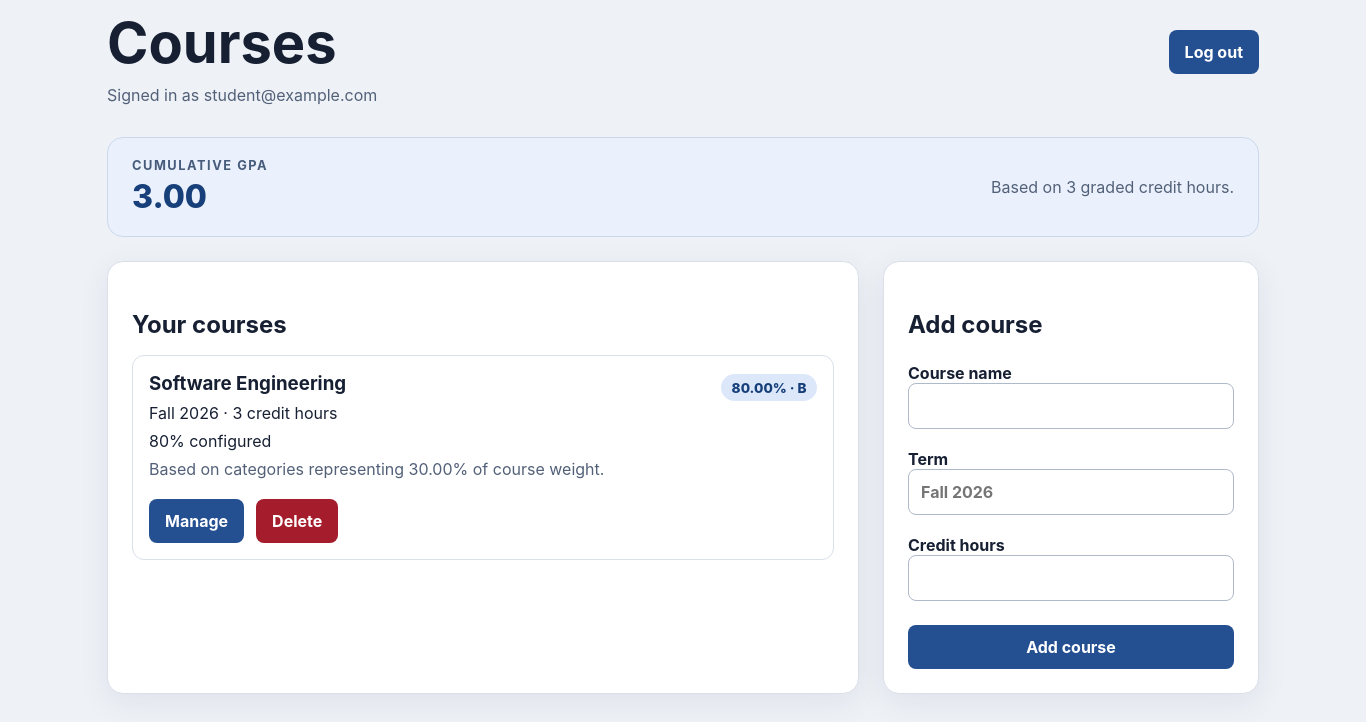
Test: What-If calculator › changing Hypothetical points earned clears an existing projection
This screenshot has width=1366, height=722.
Step 1. Click the button "Manage" → click(197, 521), box [149,499,244,543]
(page scrolled)
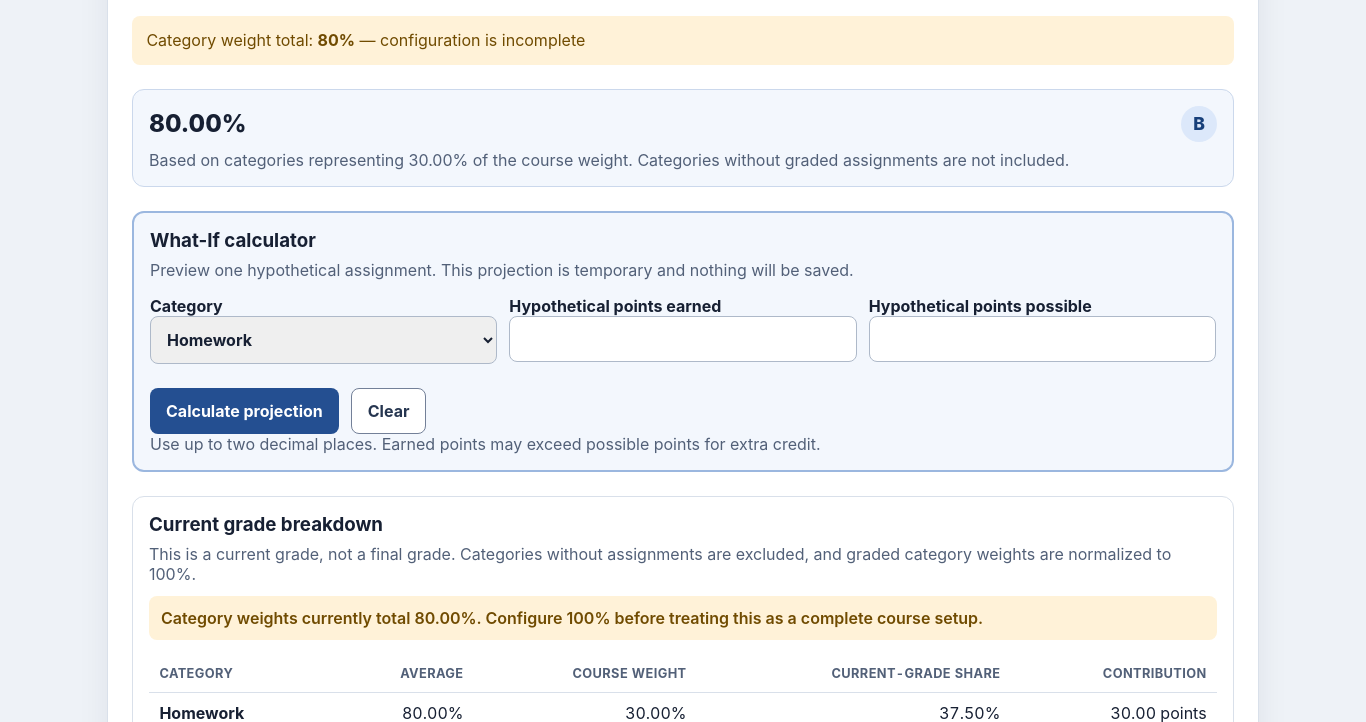
Now the heading "What-If calculator" is shown, box [150,229,316,252]
Step 2. Type "92" into the number field labelled "Hypothetical points earned" → (683, 339), box [509,316,857,362]
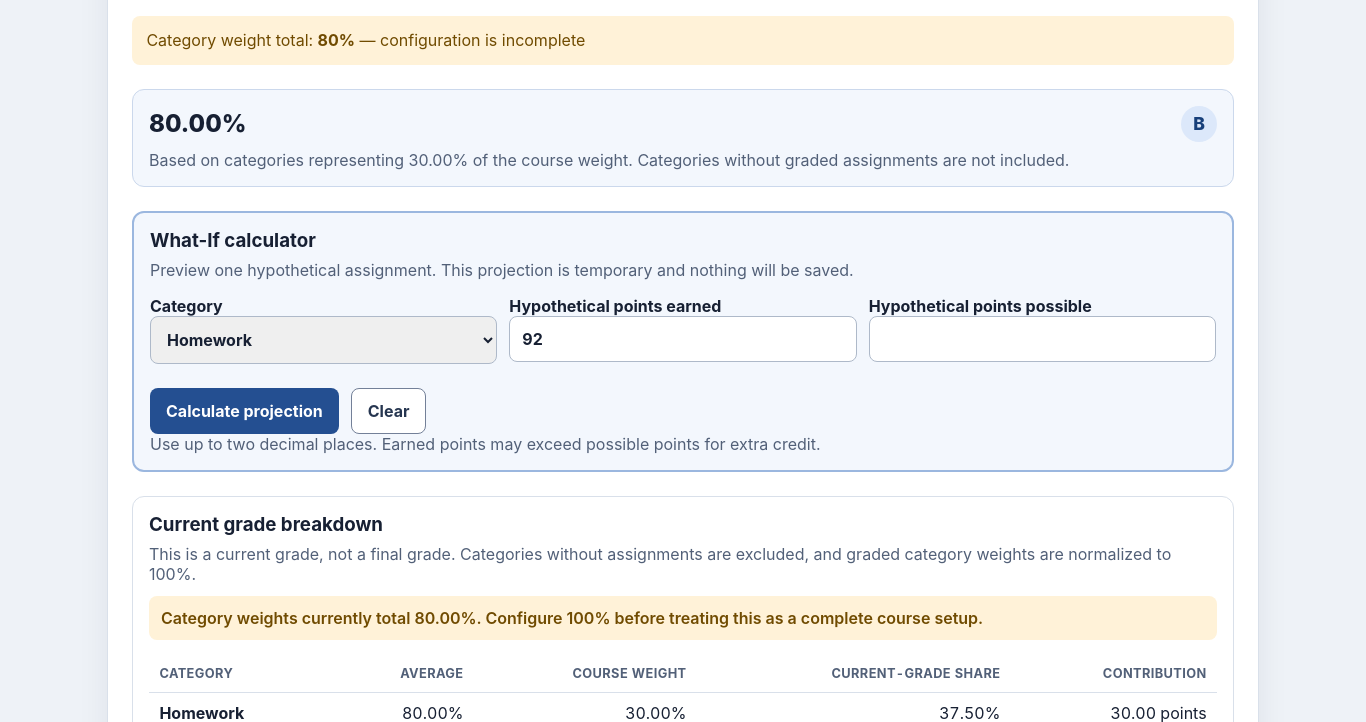
Step 3. Type "100" into the number field labelled "Hypothetical points possible" → (1042, 339), box [869,316,1216,362]
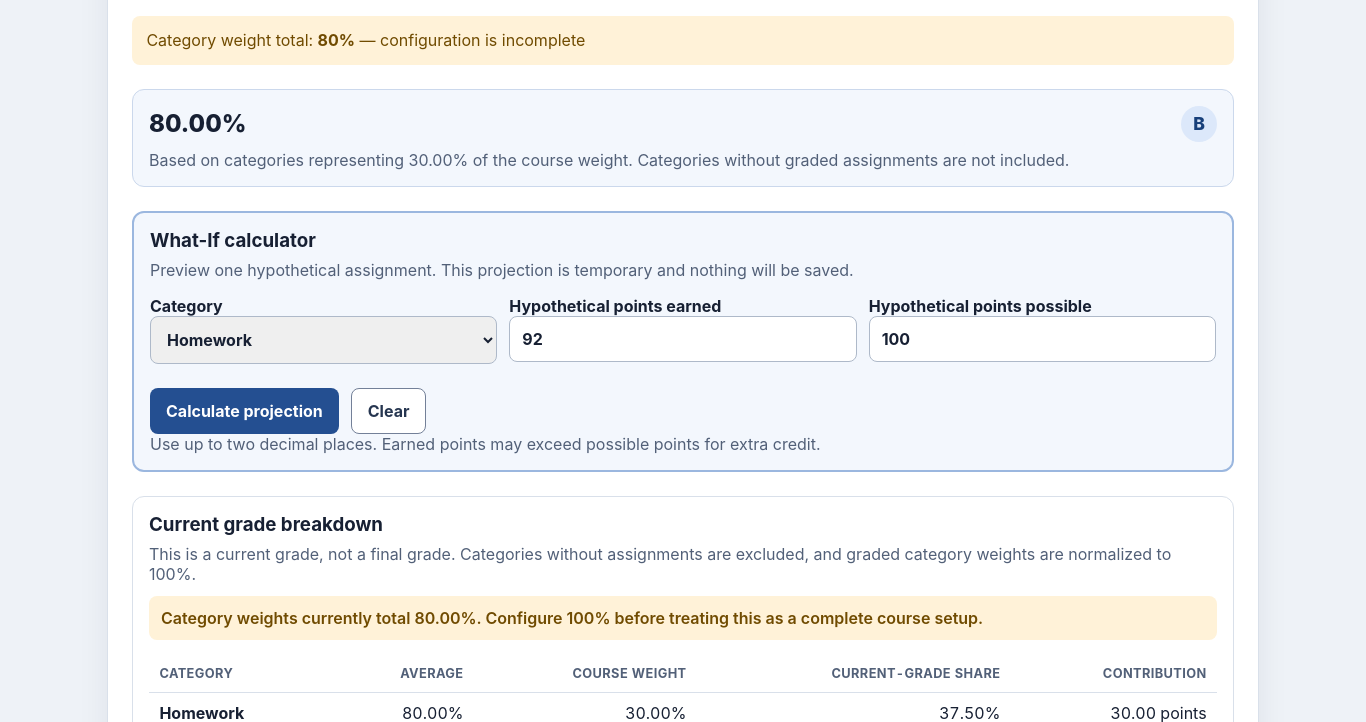
Step 4. Click the button "Calculate projection" → click(244, 411), box [150,388,339,434]
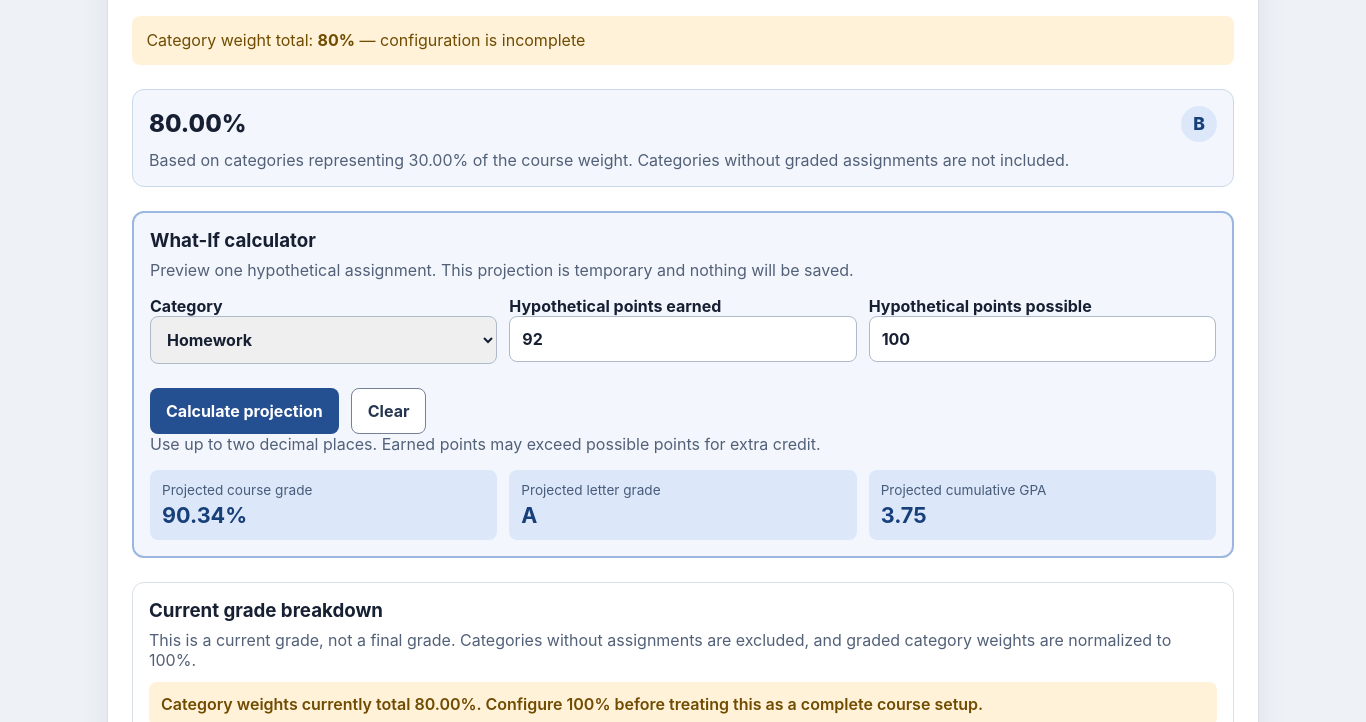
Now the text "90.34%" is shown, box [162,502,247,528]
Step 5. Replace the text in the number field labelled "Hypothetical points earned" with "93" → (683, 339), box [509,316,857,362]
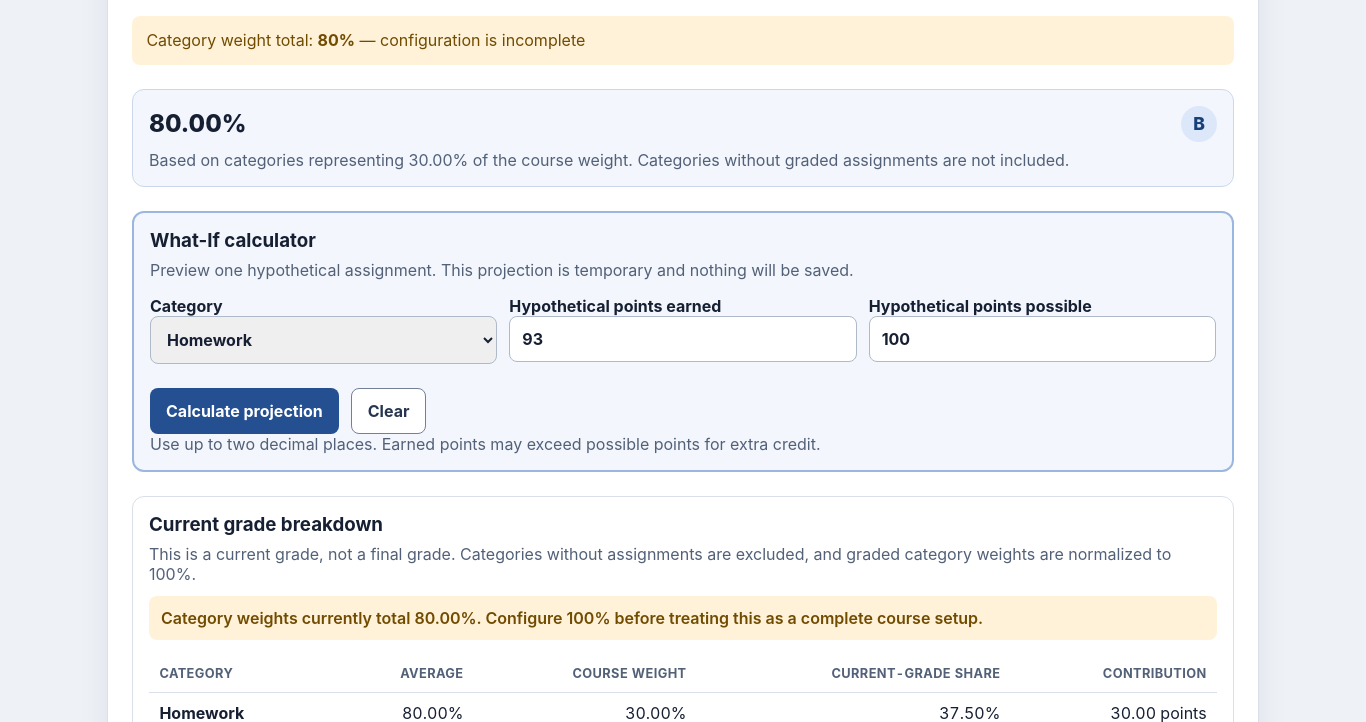
Now the text "90.34%" is gone
